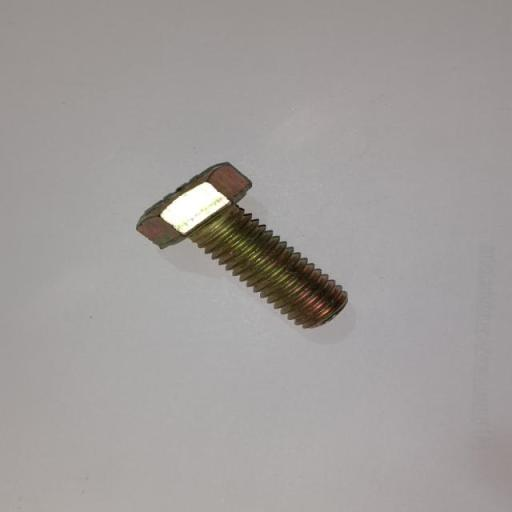Bolt: (135, 161, 350, 330)
